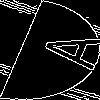A: (25, 25, 100, 71)
